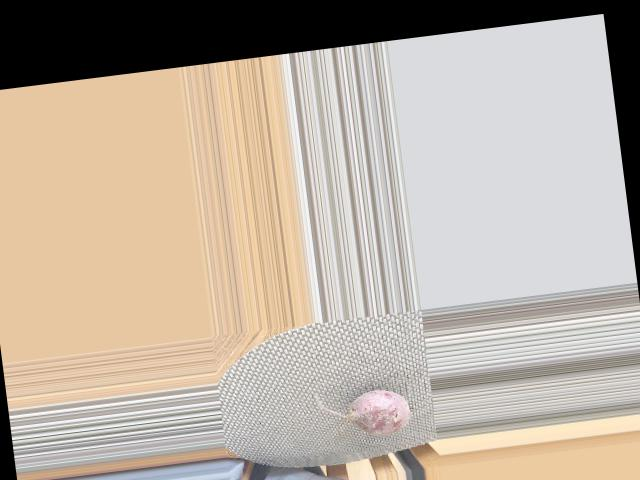beet: (314, 381, 412, 443)
